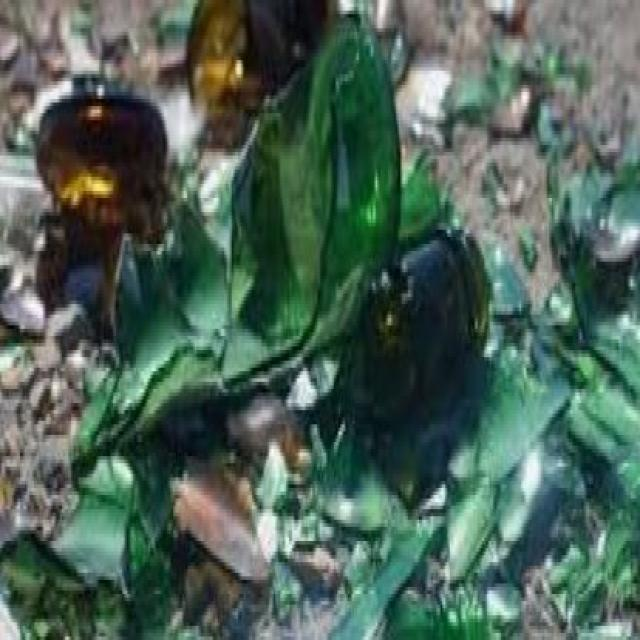electronic: (69, 12, 402, 468), (34, 71, 168, 249)
